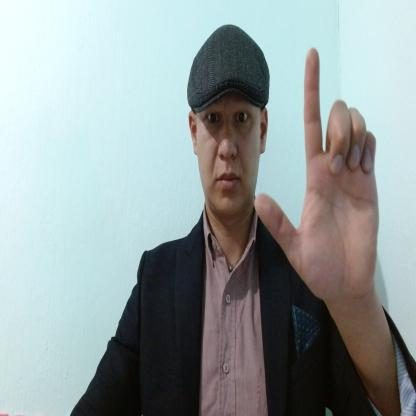L: (256, 47, 380, 297)
